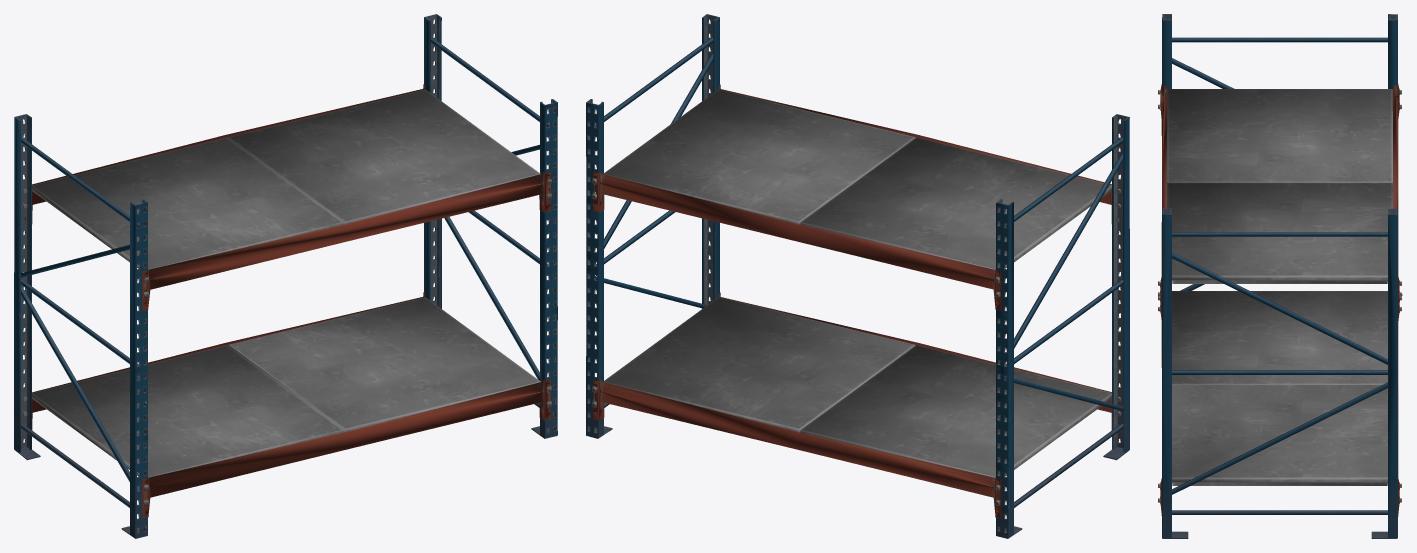
File: simready-warehouse-rack.glb
3 renders of one model, left to right at view 1: azimuth 30°, elevation 25°; view 2: azimuth 150°, elevation 25°; view 3: azimuth 270°, elevation 25°, orthographic. The views are drawn at different scales.
Visible parts, largest first — view 1: sm_rack_a01_mesh_00; view 2: sm_rack_a01_mesh_00; view 3: sm_rack_a01_mesh_00.
Part boxes in pixels (x1,y1,x2,y2): sm_rack_a01_mesh_00: [14, 14, 557, 538]; sm_rack_a01_mesh_00: [586, 14, 1129, 538]; sm_rack_a01_mesh_00: [1158, 14, 1402, 538].
Bounding box in the file's own units: 4 × 3.01 × 2.06.
Materials: 3 (3 with a texture image).
